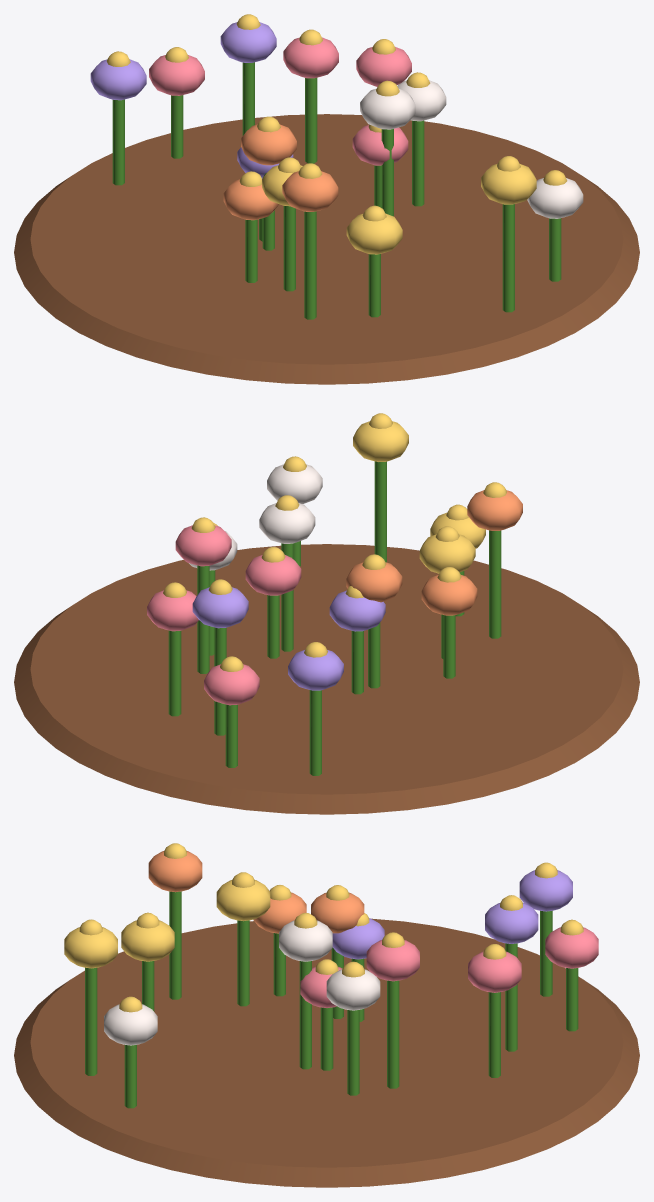
The model's file is flowers.glb.
3 renders of one model, top to bottom at view 1: azimuth 30°, elevation 25°; view 2: azimuth 150°, elevation 25°; view 3: azimuth 270°, elevation 25°, orthographic.
Bounding box in the file's own units: 1.52 × 0.445 × 1.52.
